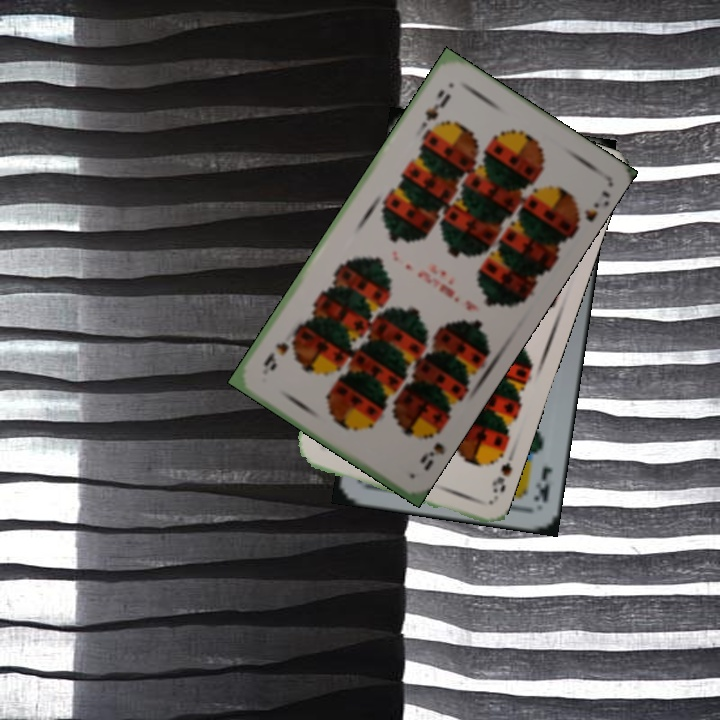EK: (529, 461, 556, 506)
S9: (415, 422, 447, 474), (420, 85, 454, 124), (487, 444, 509, 496)
